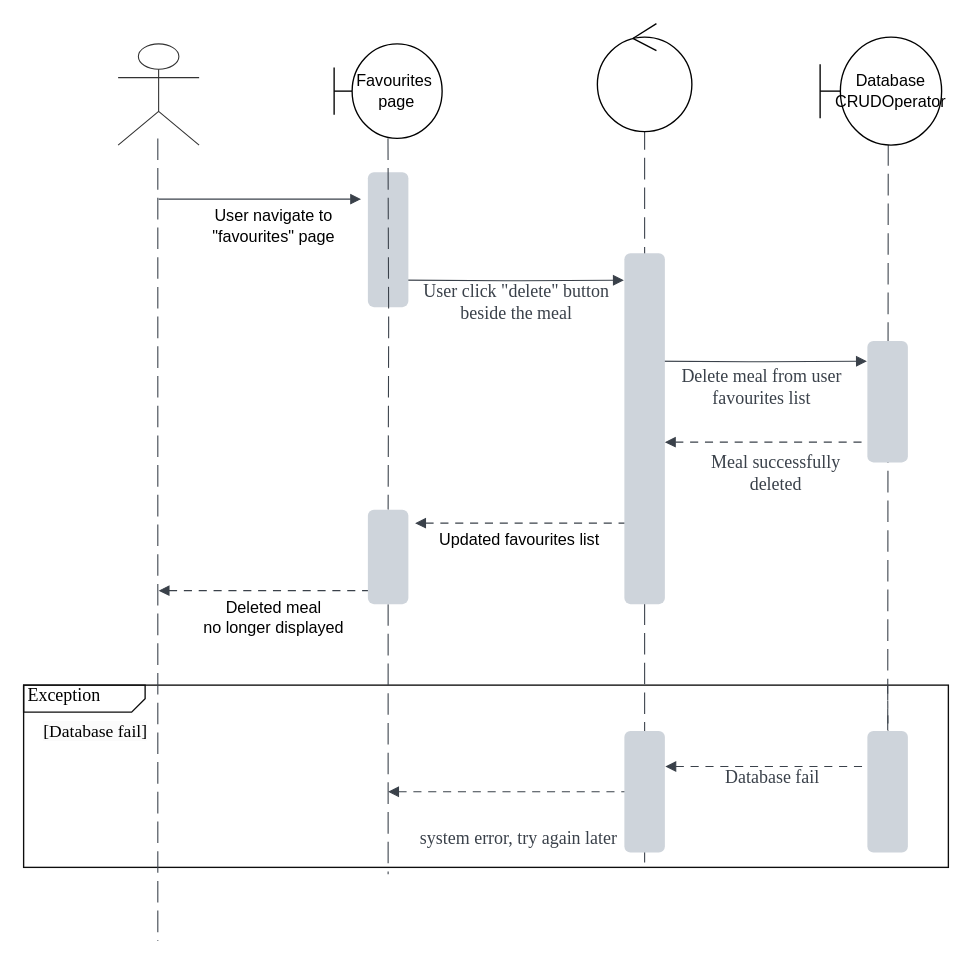
Some shapes in this 971 by 967 pixel diagram are drawn without their labels. The centre of each missing label's shape, as x and y in pixels:
Actor: the point at 158,94
Favourite Controller: the point at 644,77
